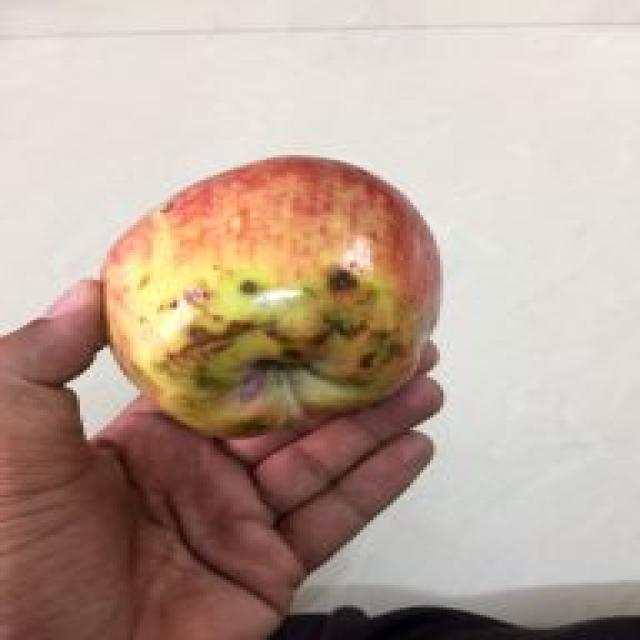Bad_Apple: (105, 158, 440, 436)
